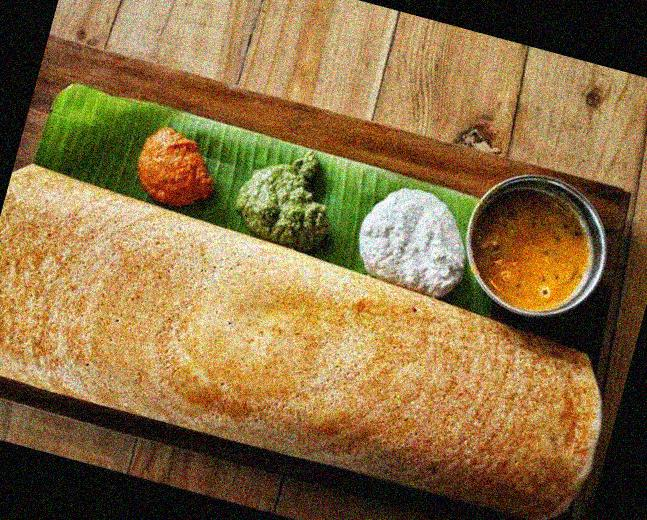dosa: (6, 164, 604, 502)
